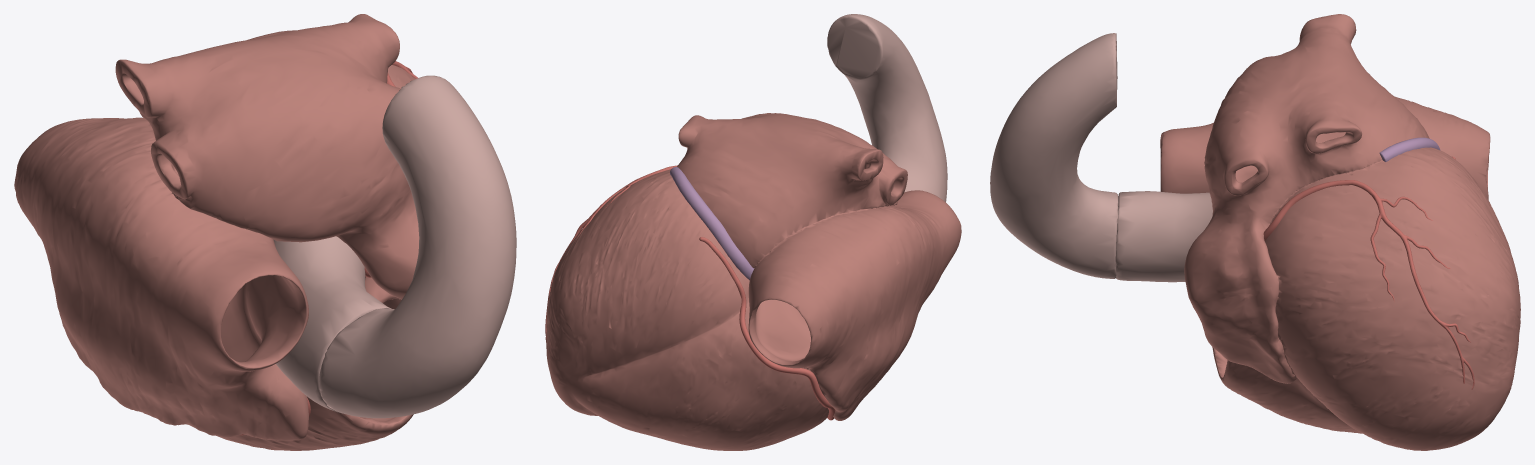
File: public_heart.glb
3 views of the same model, side by side, from view 1: azimuth 30°, elevation 25°; view 2: azimuth 150°, elevation 25°; view 3: azimuth 270°, elevation 25° (orthographic). The views are drawn at different scales.
Visible parts, largest first — view 1: FMA7274, FMA3768, FMA3736; view 2: FMA7274, FMA3768, FMA4706, FMA3802, FMA3895; view 3: FMA7274, FMA3768, FMA3736, FMA3895, FMA4706.
Boxes of the visible parts, bbox=[...] form: FMA7274: bbox=[14, 14, 419, 450]; FMA3768: bbox=[319, 75, 516, 418]; FMA3736: bbox=[273, 236, 390, 413]; FMA7274: bbox=[546, 113, 961, 450]; FMA3768: bbox=[827, 14, 947, 202]; FMA4706: bbox=[670, 167, 754, 280]; FMA3802: bbox=[699, 237, 835, 420]; FMA3895: bbox=[545, 165, 677, 342]; FMA7274: bbox=[1160, 14, 1520, 450]; FMA3768: bbox=[990, 33, 1118, 278]; FMA3736: bbox=[1115, 191, 1212, 282]; FMA3895: bbox=[1263, 180, 1474, 389]; FMA4706: bbox=[1379, 137, 1440, 161].
Size of the model in its own units: 1.49 by 1.58 by 2.
